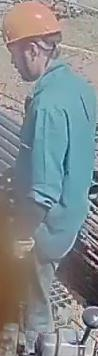gloves: (13, 238, 40, 265)
helmet: (2, 0, 62, 45)
vest: (18, 59, 96, 263)
